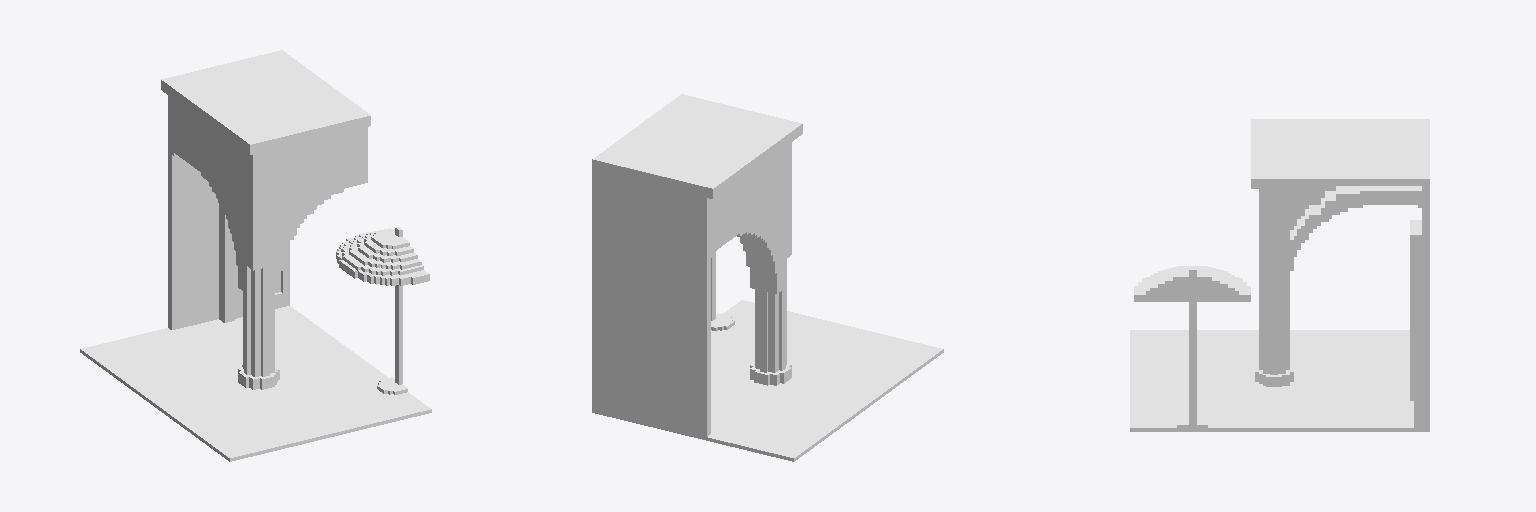
The model's file is portales-p2_v01.obj.
3 views of the same model, side by side, from view 1: azimuth 30°, elevation 25°; view 2: azimuth 150°, elevation 25°; view 3: azimuth 270°, elevation 25° (orthographic).
Visible parts, largest first — view 1: object 1; view 2: object 1; view 3: object 1.
Part boxes in pixels (x1,y1,x2,y2): object 1: (80, 50, 431, 461); object 1: (592, 94, 943, 461); object 1: (1130, 119, 1429, 431).
Bounding box in the file's own units: 6 × 7.2 × 7.7.